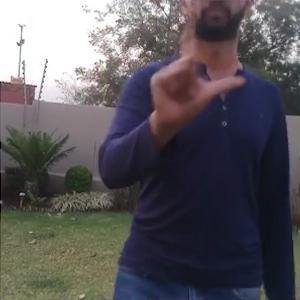land_hand: (145, 1, 249, 135)
